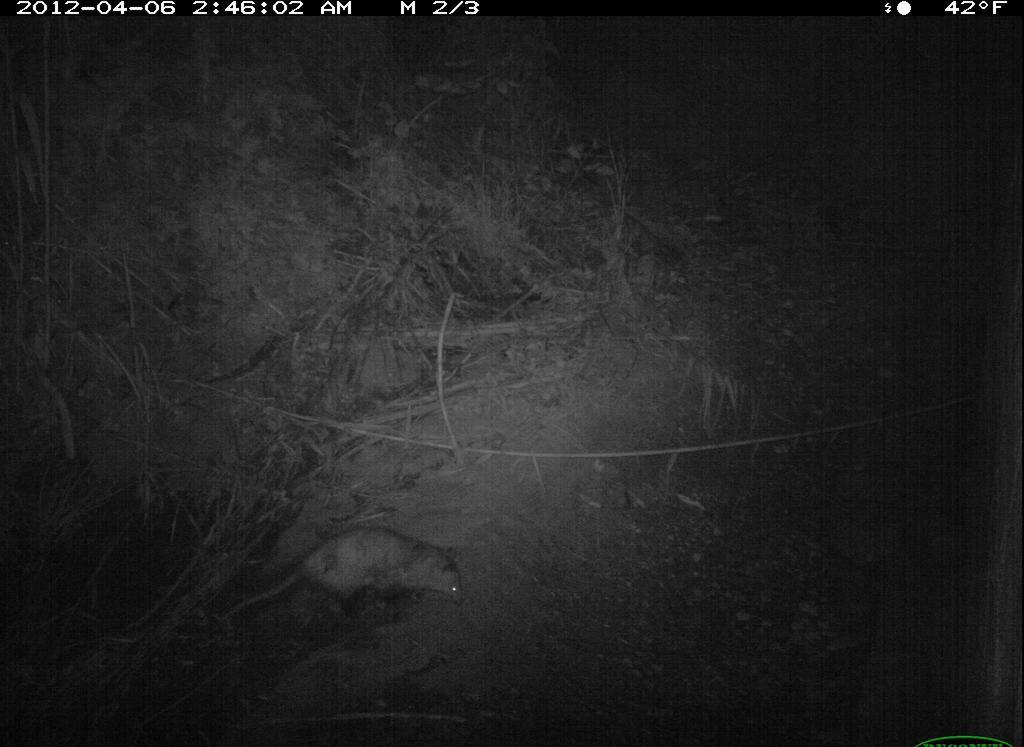opossum: (221, 524, 468, 637)
